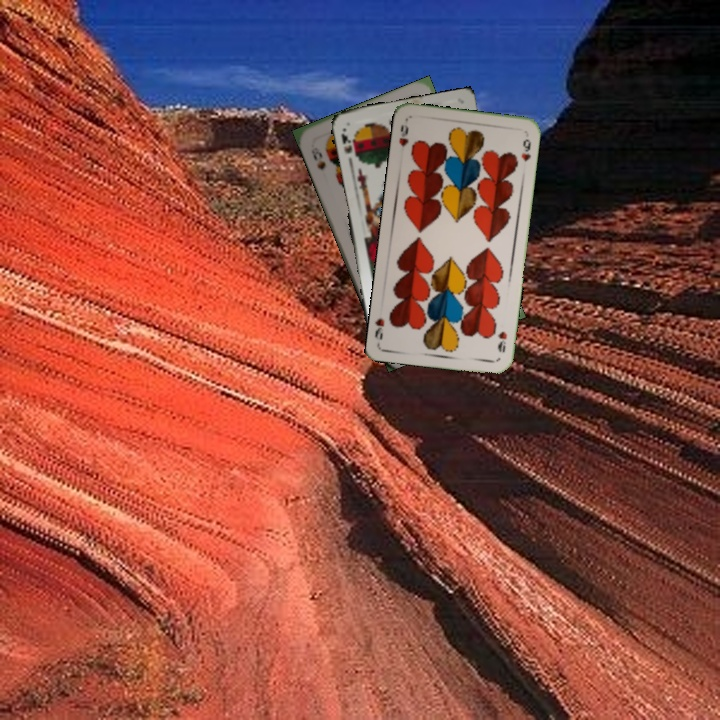H9: (395, 121, 411, 149), (494, 327, 509, 355)
S8: (307, 146, 329, 172)
SK: (337, 129, 355, 156)
